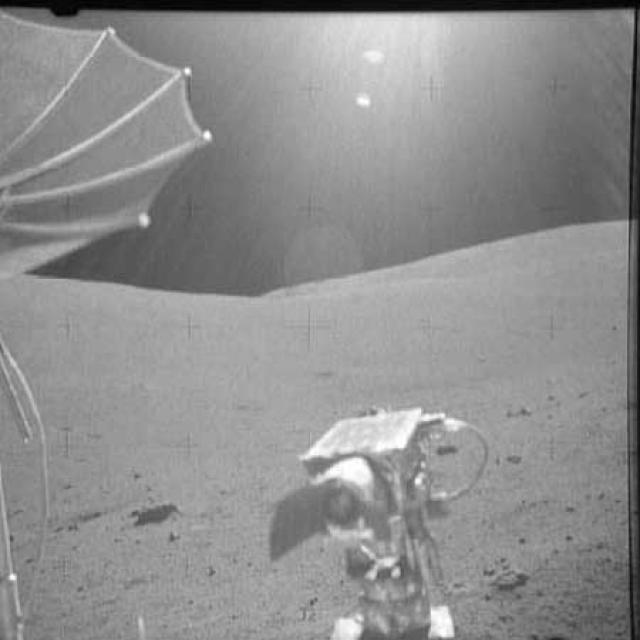artifact: (0, 2, 221, 638), (270, 388, 492, 639)
rock: (127, 491, 183, 527), (492, 555, 531, 596)
